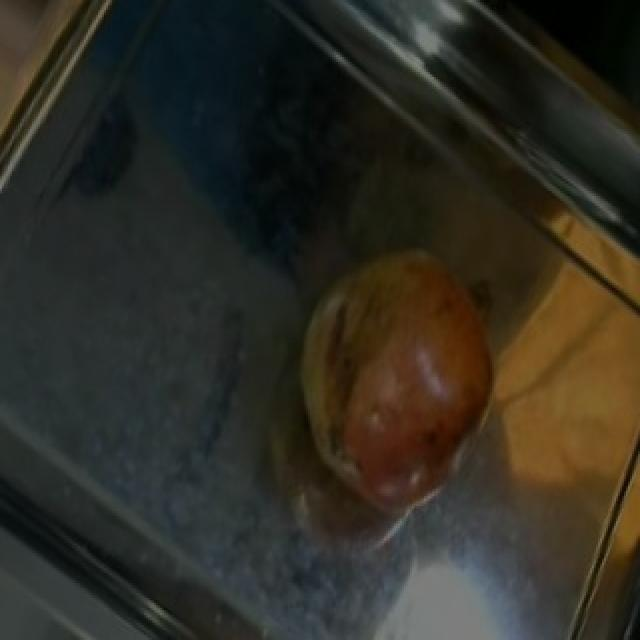fruit: (266, 231, 528, 548)
